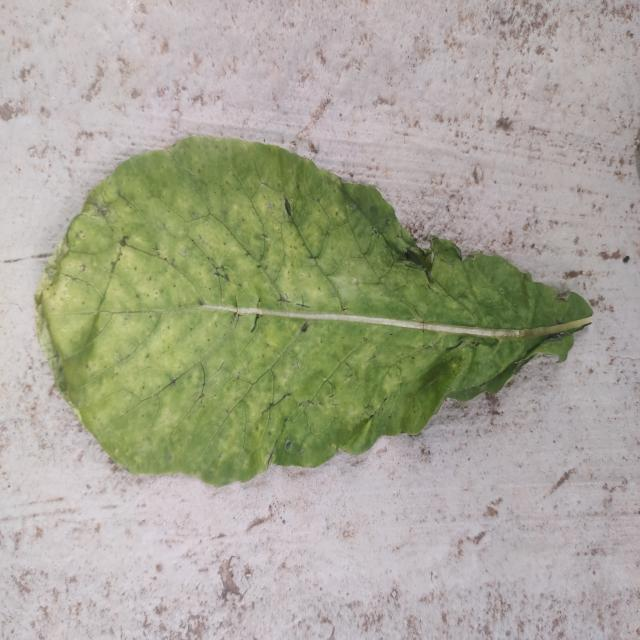leaf: (33, 132, 593, 487)
